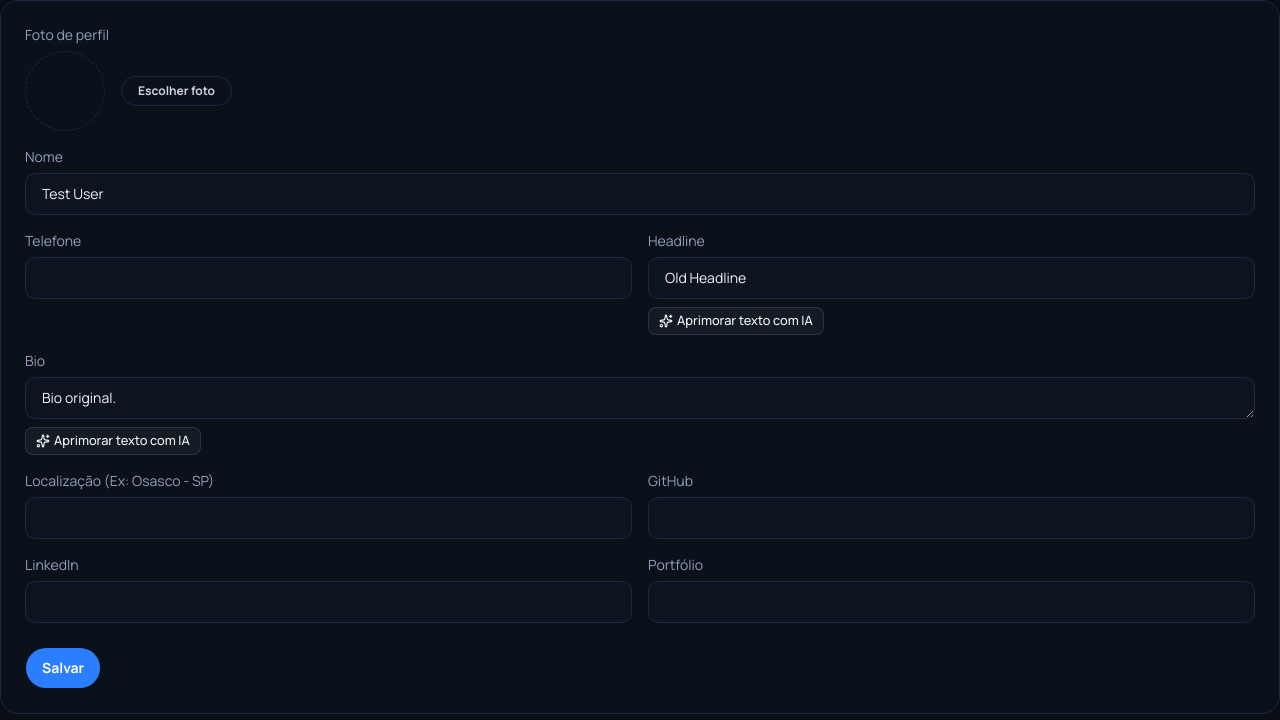
ProfileForm › applies an AI bio suggestion to the form state without saving
The width and height of the screenshot is (1280, 720).
Click the button "Aprimorar texto com IA" below "Bio": click(113, 441) [25,427,201,455]
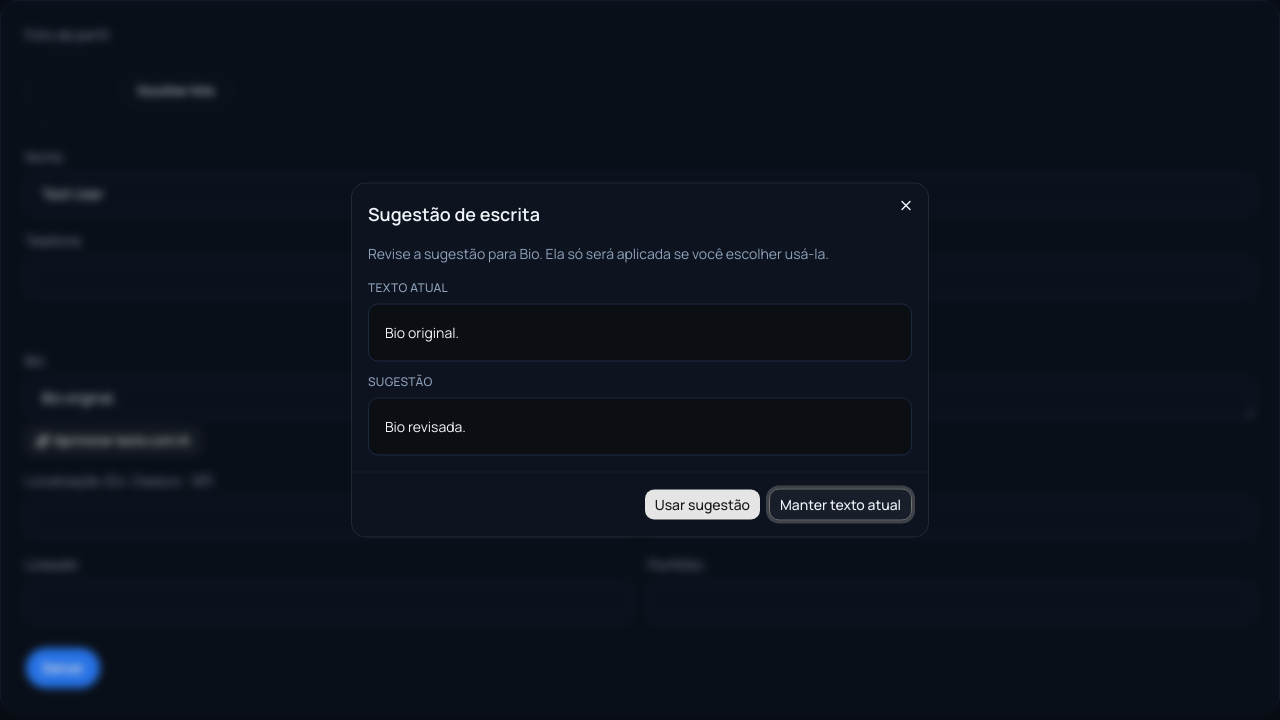
Now the text "Bio revisada." is shown, box [368,398,912,456]
Click the button "Usar sugestão": click(702, 504) [644,488,761,520]
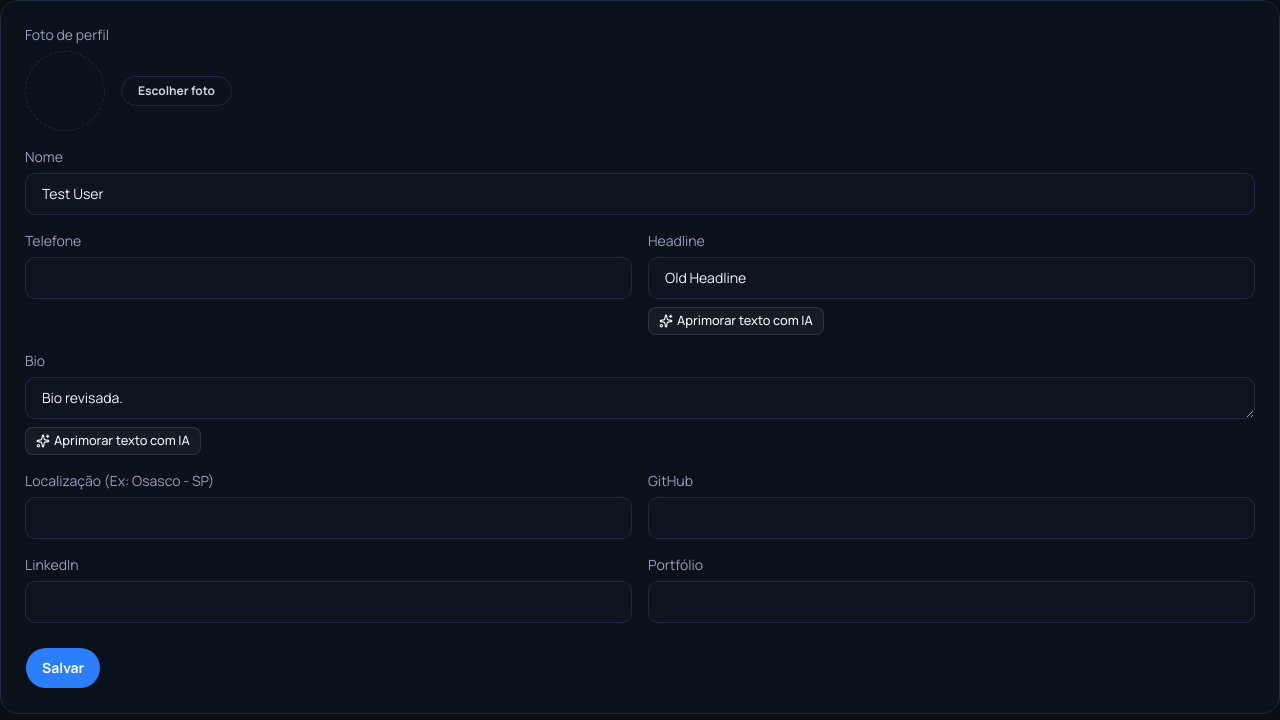
Now the text box labelled "Bio" holds "Bio revisada.", box [25,377,1255,419]
